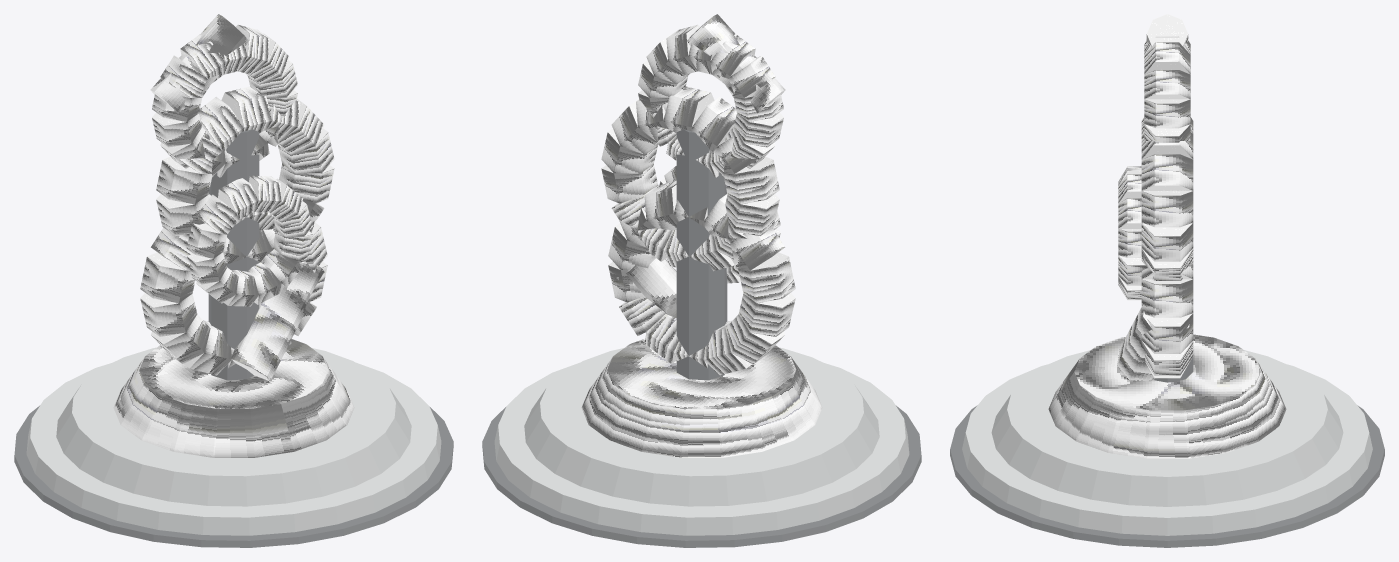
The model's file is Building_SculptureLarge__C.glb.
The picture shows the model from 3 angles, left to right: view 1: azimuth 30°, elevation 25°; view 2: azimuth 150°, elevation 25°; view 3: azimuth 270°, elevation 25°; orthographic projection.
Parts seen in each view (by area): view 1: SculptureLarge__C; view 2: SculptureLarge__C; view 3: SculptureLarge__C.
Part boxes in pixels (x1=…): SculptureLarge__C: x1=14, y1=14, x2=453, y2=547; SculptureLarge__C: x1=482, y1=14, x2=921, y2=547; SculptureLarge__C: x1=950, y1=14, x2=1384, y2=547.
Bounding box in the file's own units: 1.68 × 1.86 × 1.68.
Materials: 1 (1 with a texture image).
